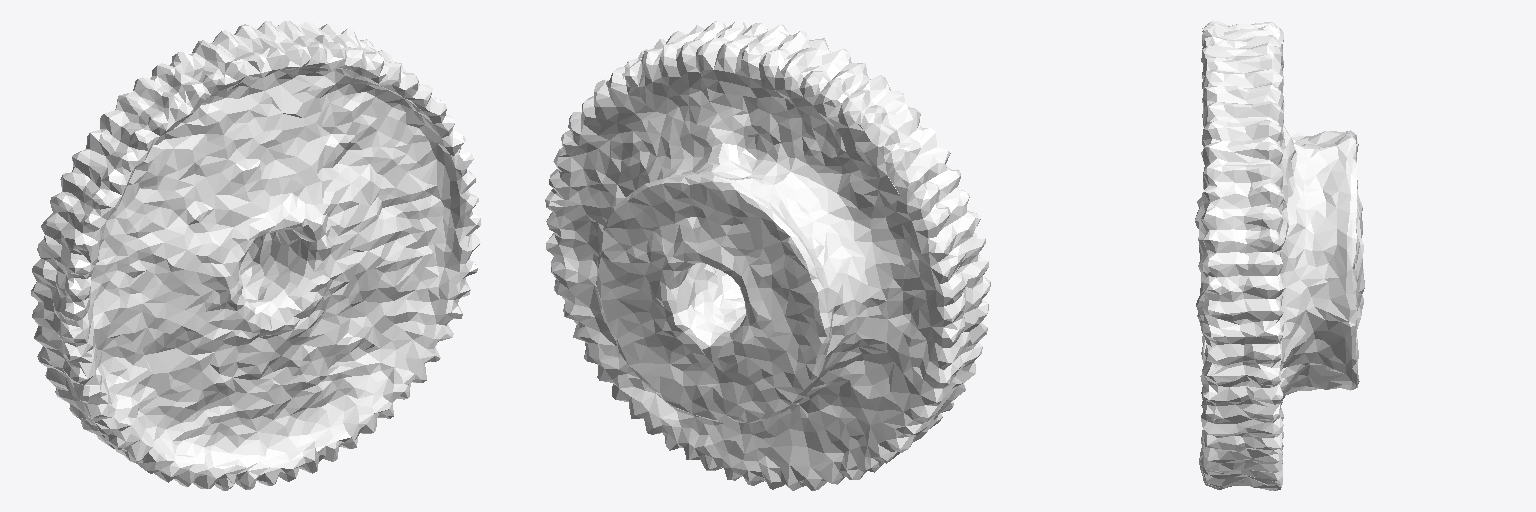
URDF robot description (atb1_gear-large):
<?xml version="0.0" ?>
<robot name="atb1_gear-large">
  <link name="baseLink">
    <contact>
      <friction_anchor/>
      <lateral_friction value="0.8"/>
      <spinning_friction value="0.001"/>
      <rolling_friction value="0.001"/>
      <contact_cfm value="0.0"/>
      <contact_erp value="0.2"/>
    </contact>
    <inertial>
       <origin rpy="0 0 0" xyz="0 0 0"/>
       <mass value="0.01"/>
       <inertia ixx="1e-3" ixy="0" ixz="0" iyy="1e-3" iyz="0" izz="1e-3"/>
    </inertial>
    <visual>
      <origin rpy="0 0 0" xyz="0 0 0"/>
      <geometry>
        <mesh filename="obj/fused_model.obj" scale="1 1 1"/>
      </geometry>
      <material name="white">
        <color rgba="1. 1. 1. 1."/>
      </material>
    </visual>
    <collision>
      <origin rpy="0 0 0" xyz="0 0 0"/>
      <geometry>
        <mesh filename="obj/fused_model.obj" scale="1 1 1"/>
      </geometry>
    </collision>
  </link>
</robot>

--- Render facts (derived) ---
3 views of the same robot in one strip: view 1: azimuth 30°, elevation 25°; view 2: azimuth 150°, elevation 25°; view 3: azimuth 270°, elevation 25° (orthographic).
Robot: atb1_gear-large — 1 links, 0 joints (none); root link baseLink; default pose: all joints at 0.
Visible links, largest first — view 1: baseLink; view 2: baseLink; view 3: baseLink.
Boxes of the visible links, x1,y1,x2,y2 form: baseLink: [31, 21, 480, 490]; baseLink: [545, 20, 990, 490]; baseLink: [1195, 21, 1364, 490].
Size in the robot's own frame: 0.061 by 0.0223 by 0.0615 metres.
1 mesh visuals loaded from 1 distinct referenced files (1 OBJ).